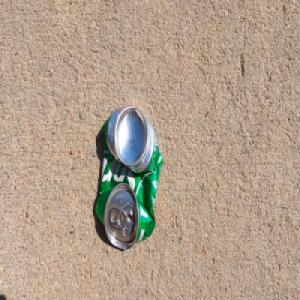SodaCan: (93, 104, 163, 252)
